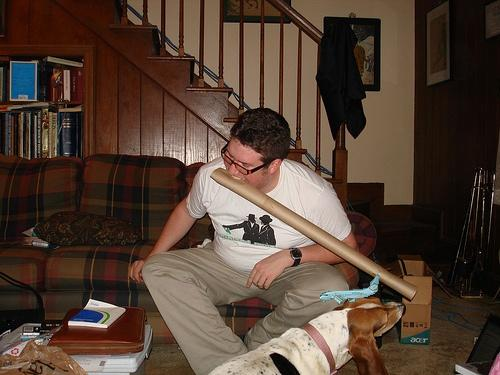tampered: (320, 275, 380, 305)
